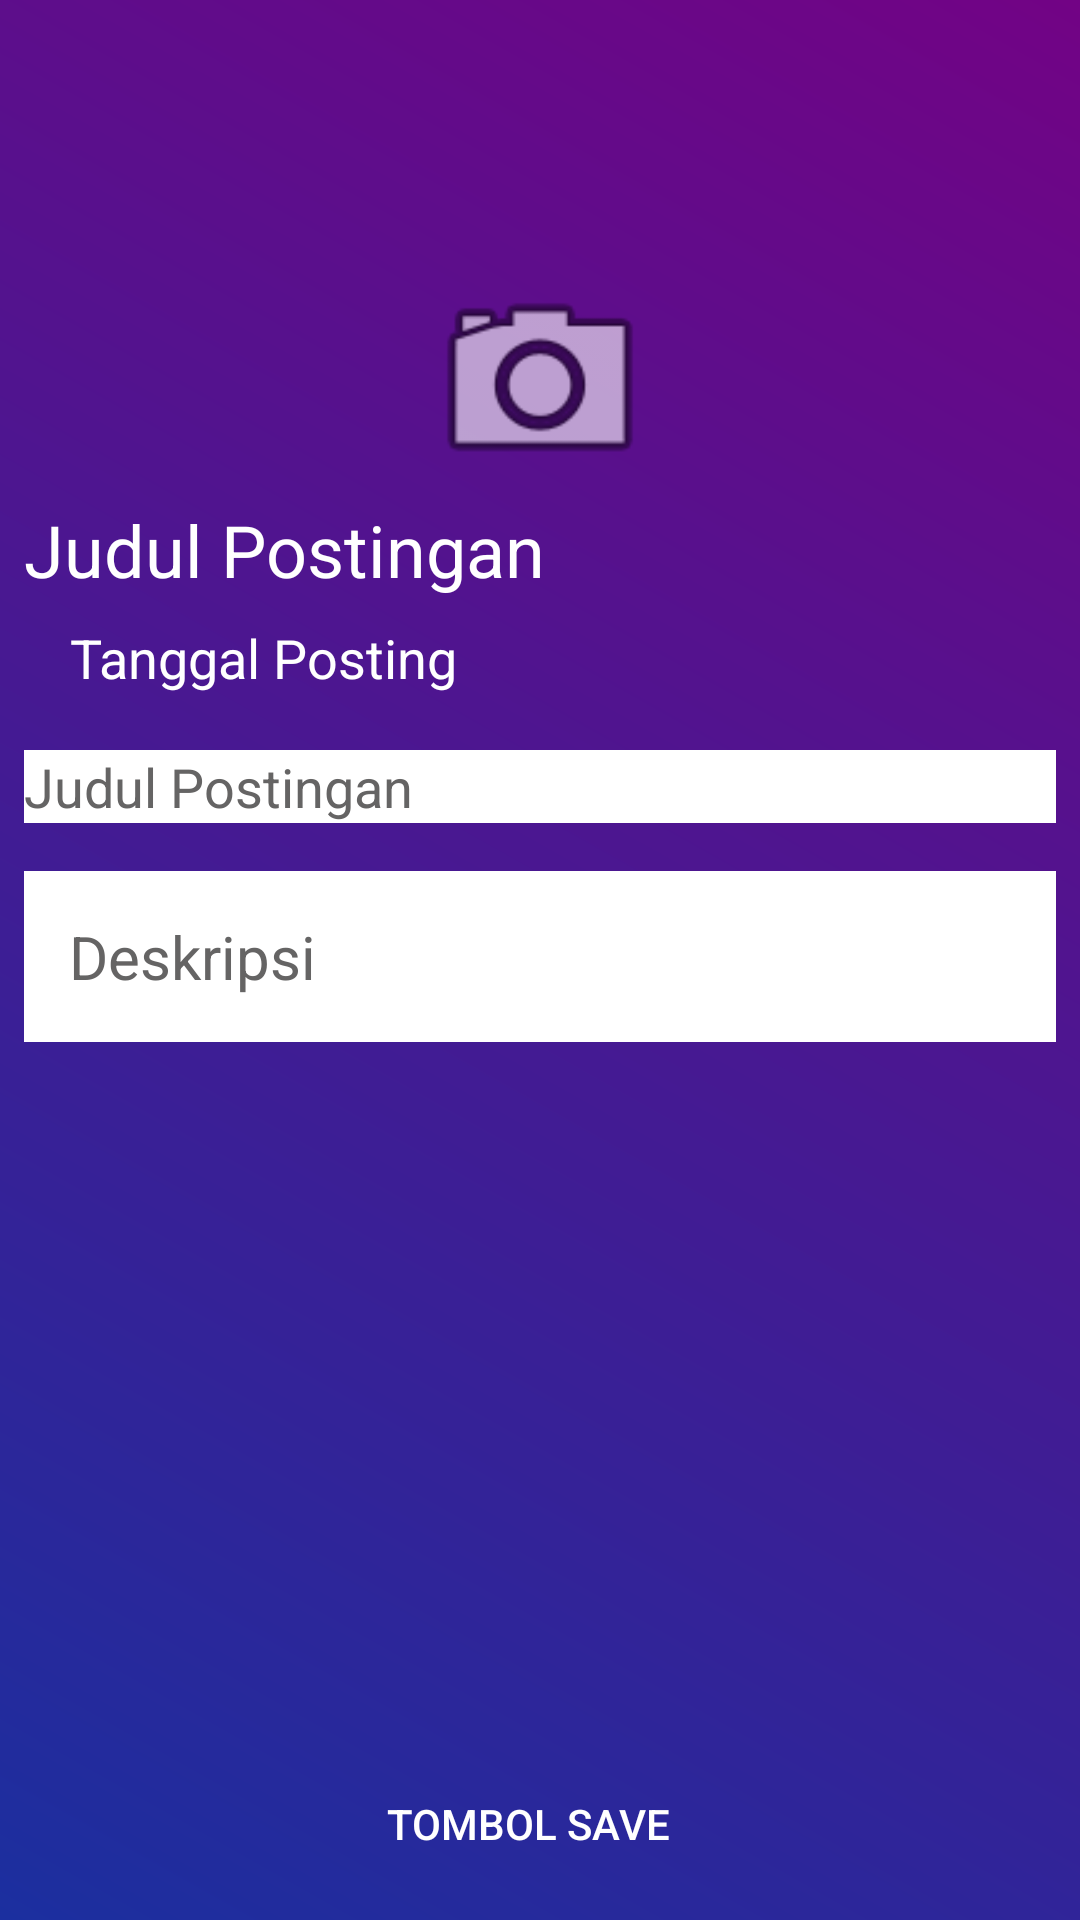

Icon click points for this 1080 × 1920 phone screenshot, format (x=x, y=y):
camera: (x=540, y=377)
